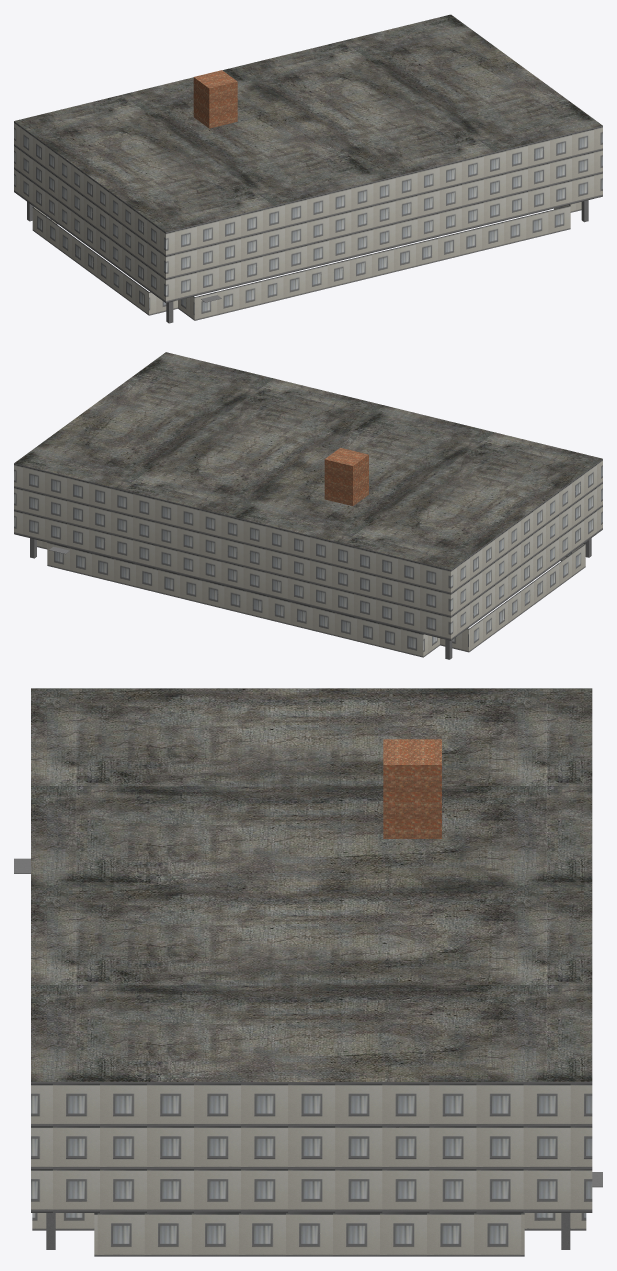
The model's file is LOD01_Building_4stores_BigResidential.obj.
3 renders of one model, top to bottom at view 1: azimuth 30°, elevation 25°; view 2: azimuth 150°, elevation 25°; view 3: azimuth 270°, elevation 25°, orthographic. The views are drawn at different scales.
Parts seen in each view (by area): view 1: LOD01_Building_4stores_BigResidential; view 2: LOD01_Building_4stores_BigResidential; view 3: LOD01_Building_4stores_BigResidential.
Boxes of the visible parts, x1=… form: LOD01_Building_4stores_BigResidential: x1=14, y1=14, x2=602, y2=323; LOD01_Building_4stores_BigResidential: x1=14, y1=352, x2=602, y2=659; LOD01_Building_4stores_BigResidential: x1=14, y1=688, x2=602, y2=1256.
Bounding box in the file's own units: 19.8 × 5.89 × 12.51.
